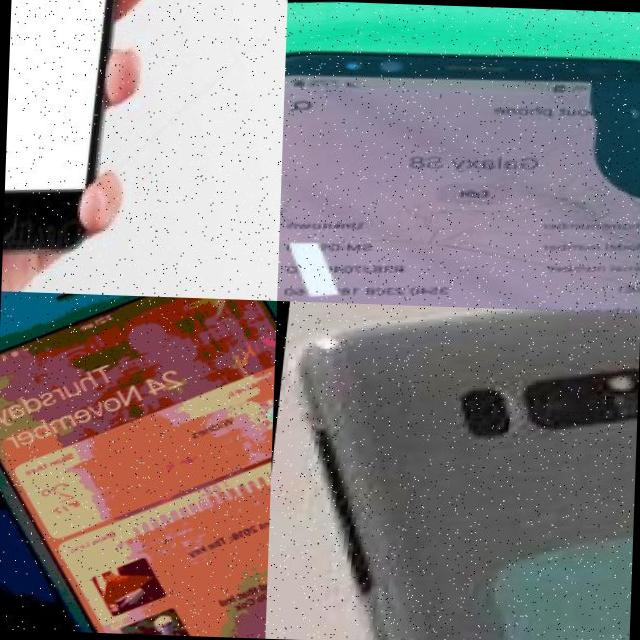dead pixel: (558, 45, 640, 215)
screen crack: (276, 162, 640, 312), (282, 48, 310, 152)
